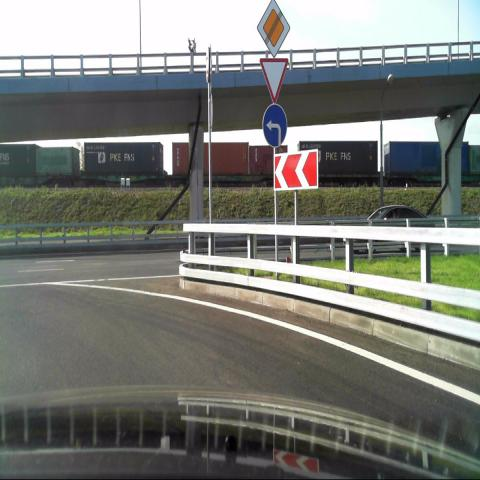4_1_3: (264, 101, 288, 149)
